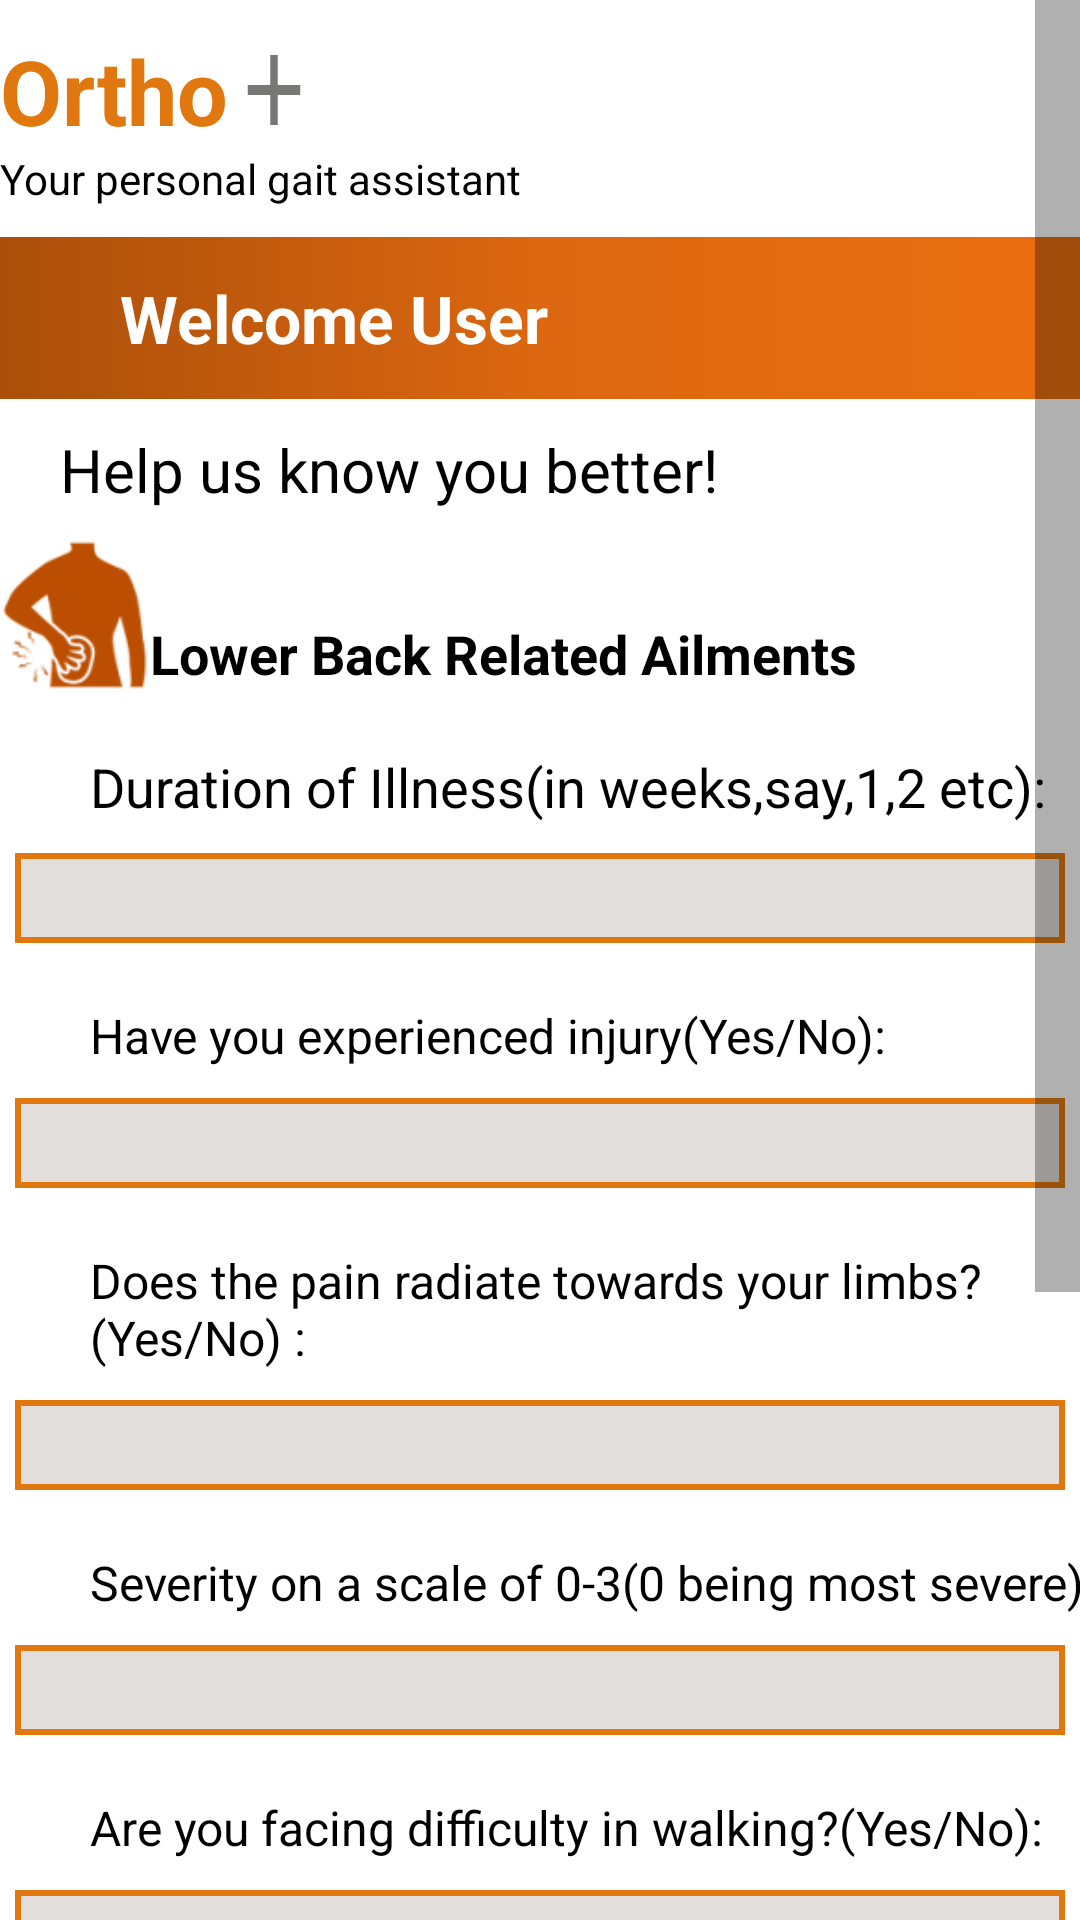

Named icons in this screenshot (1080*1920) and their centers, [x,y]:
add: [274,90]
